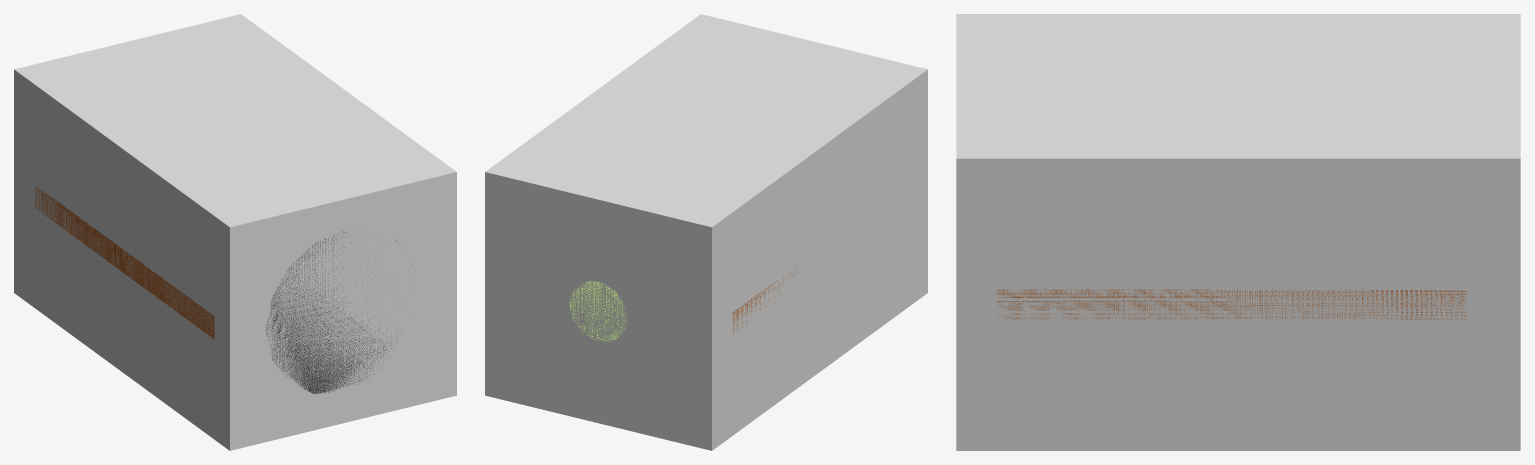
The model's file is smg_emitter_plasma.glb.
3 views of the same model, side by side, from view 1: azimuth 30°, elevation 25°; view 2: azimuth 150°, elevation 25°; view 3: azimuth 270°, elevation 25° (orthographic). The views are drawn at different scales.
Visible parts, largest first — view 1: COL_part, emitter; view 2: COL_part, emitter; view 3: COL_part, emitter.
Boxes of the visible parts, left/top/right/bottom form: COL_part: left=14, top=14, right=456, bottom=450; emitter: left=35, top=185, right=411, bottom=393; COL_part: left=485, top=14, right=927, bottom=450; emitter: left=569, top=265, right=797, bottom=341; COL_part: left=956, top=14, right=1520, bottom=450; emitter: left=997, top=289, right=1466, bottom=319.
Size of the model in its own units: 0.051 by 0.048 by 0.084.
